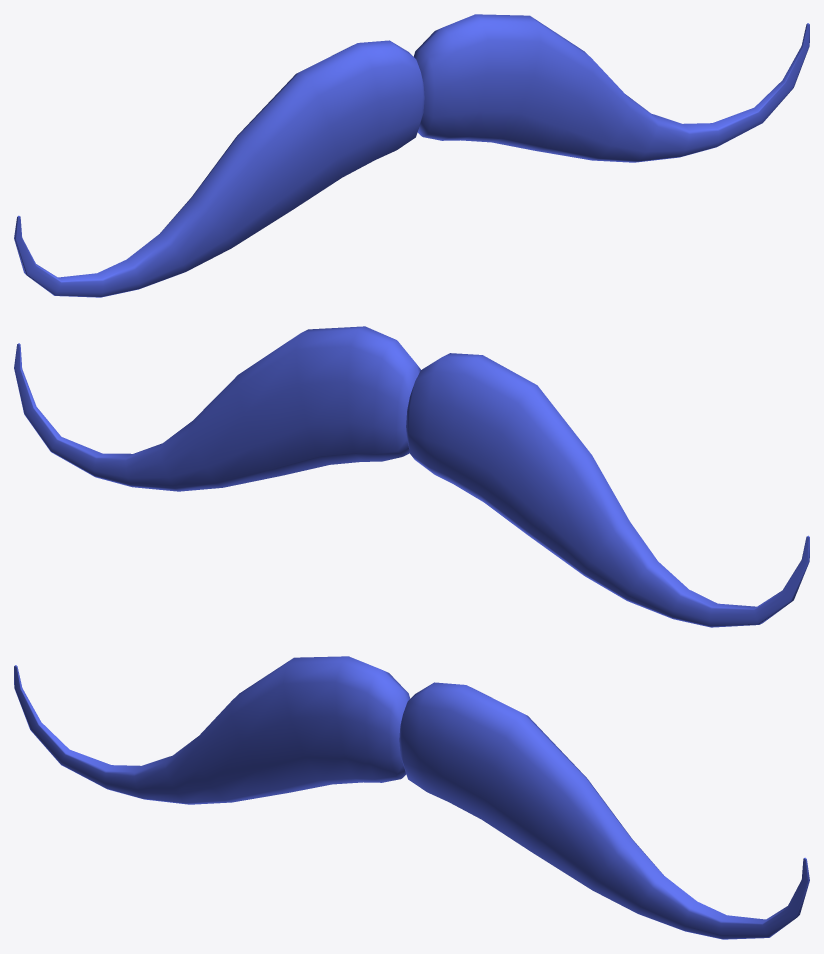
File: Beard_02_03.fbx
3 renders of one model, top to bottom at view 1: azimuth 30°, elevation 25°; view 2: azimuth 150°, elevation 25°; view 3: azimuth 330°, elevation 25°, orthographic.
Visible parts, largest first — view 1: Beard_02_03; view 2: Beard_02_03; view 3: Beard_02_03.
Part boxes in pixels (left/top/right/bottom): Beard_02_03: left=14, top=14, right=809, bottom=297; Beard_02_03: left=14, top=326, right=809, bottom=627; Beard_02_03: left=14, top=656, right=809, bottom=939.
Bounding box in the file's own units: 29.8 × 7.17 × 2.32.
